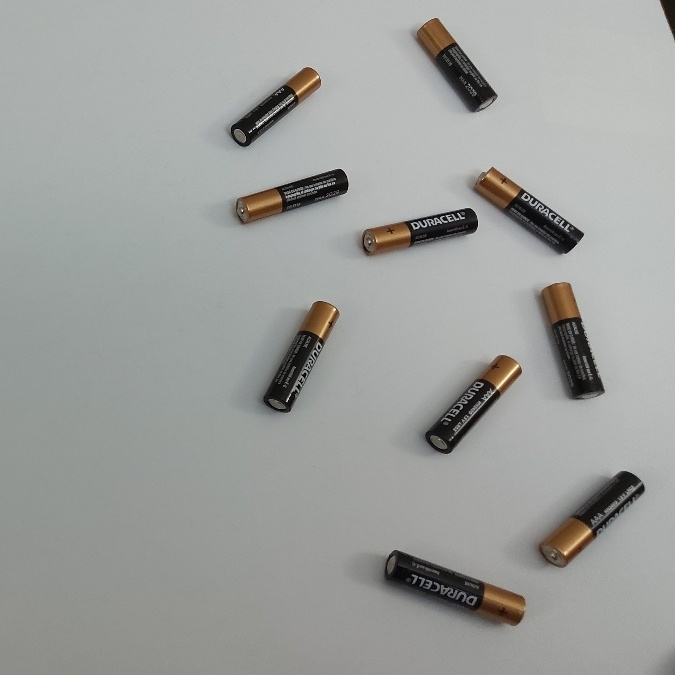battery: (381, 548, 526, 634), (538, 467, 641, 570), (253, 300, 344, 415), (421, 352, 518, 458), (474, 165, 584, 254), (540, 275, 609, 402), (415, 15, 498, 113), (232, 62, 321, 148), (232, 160, 349, 225), (359, 202, 481, 257)
